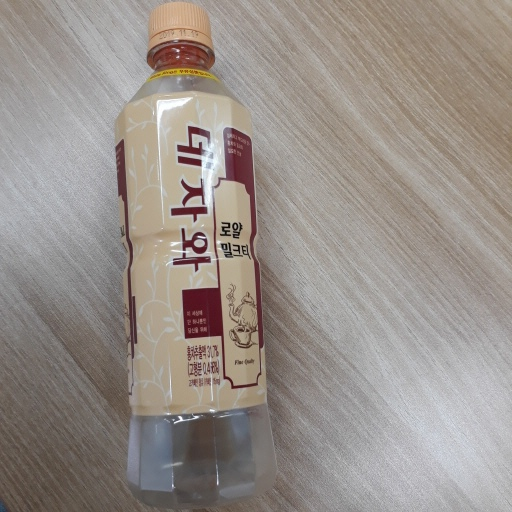Plastic_0: (112, 4, 280, 507)
